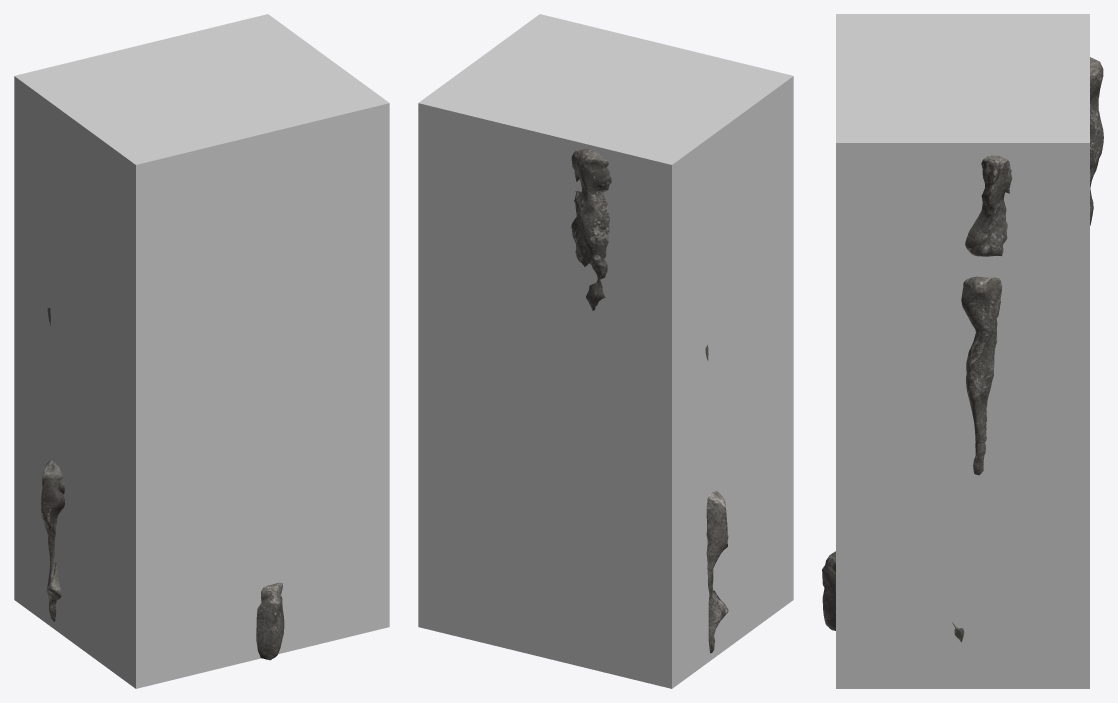
The model's file is kneeling_winged_monster_sanctuary_statue.glb.
The picture shows the model from 3 angles, left to right: view 1: azimuth 30°, elevation 25°; view 2: azimuth 150°, elevation 25°; view 3: azimuth 270°, elevation 25°; orthographic projection. The views are drawn at different scales.
Visible parts, largest first — view 1: col_kneeling_winged_monster_sanctuary, kneeling_winged_monster_sanctuary_statue; view 2: col_kneeling_winged_monster_sanctuary, kneeling_winged_monster_sanctuary_statue; view 3: col_kneeling_winged_monster_sanctuary, kneeling_winged_monster_sanctuary_statue.
Part boxes in pixels (box(x1,y1,x2,y2)): col_kneeling_winged_monster_sanctuary: box(14, 14, 389, 688); kneeling_winged_monster_sanctuary_statue: box(41, 308, 284, 660); col_kneeling_winged_monster_sanctuary: box(418, 14, 793, 688); kneeling_winged_monster_sanctuary_statue: box(571, 149, 728, 653); col_kneeling_winged_monster_sanctuary: box(836, 14, 1089, 688); kneeling_winged_monster_sanctuary_statue: box(822, 57, 1103, 642).
Bounding box in the file's own units: 1.13 × 2 × 0.9359.
Materials: 1 (1 with a texture image).
